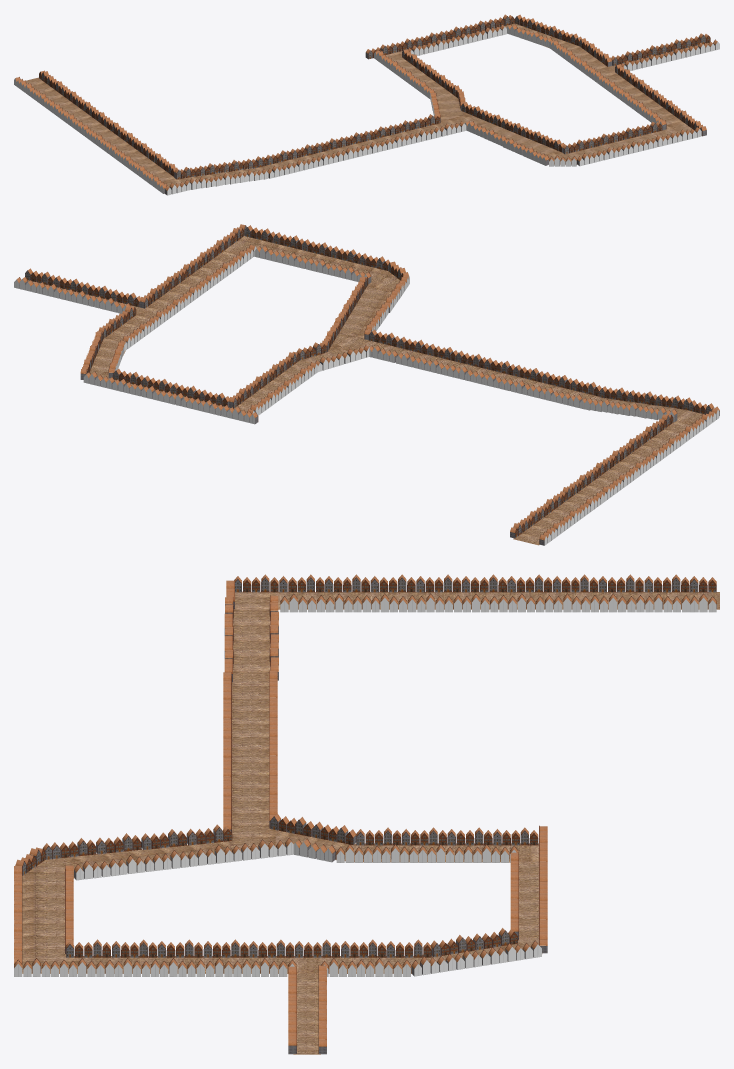
File: city2.fbx
3 views of the same model, one above another, from view 1: azimuth 30°, elevation 25°; view 2: azimuth 150°, elevation 25°; view 3: azimuth 270°, elevation 25° (orthographic). The views are drawn at different scales.
Parts seen in each view (by area): view 1: pPlane1, pCube153, pCube103, pCube104; view 2: pPlane1, pCube103, pCube104, pCube153; view 3: pPlane1, pCube153.
Part boxes in pixels (<box>): pPlane1: <box>26,23,711,186</box>; pCube153: <box>461,102,544,143</box>; pCube103: <box>189,169,268,189</box>; pCube104: <box>174,158,253,179</box>; pPlane1: <box>28,236,704,545</box>; pCube103: <box>599,386,691,409</box>; pCube104: <box>584,398,677,422</box>; pCube153: <box>322,290,360,351</box>; pPlane1: <box>22,591,719,1054</box>; pCube153: <box>118,838,293,875</box>.
Bounding box in the file's own units: 113223 × 3263 × 74512.
